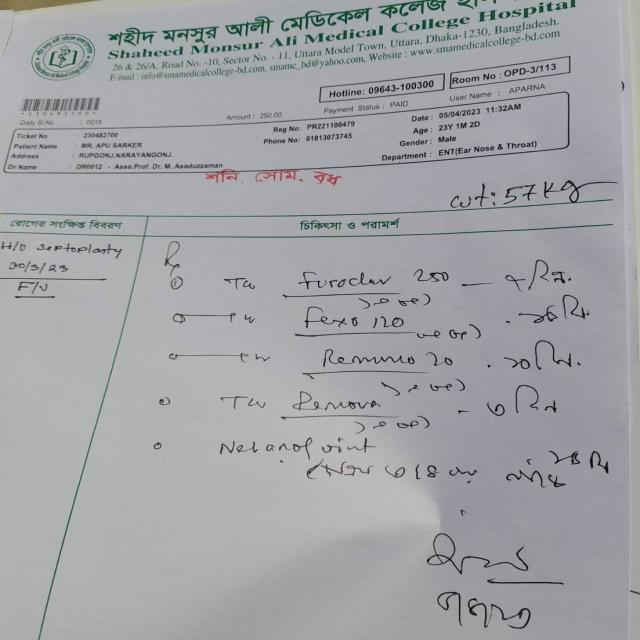Fexofast: (299, 300, 366, 334)
Furoclav: (290, 262, 395, 294)
Renova: (290, 384, 379, 416)
remmo: (312, 339, 426, 370)
